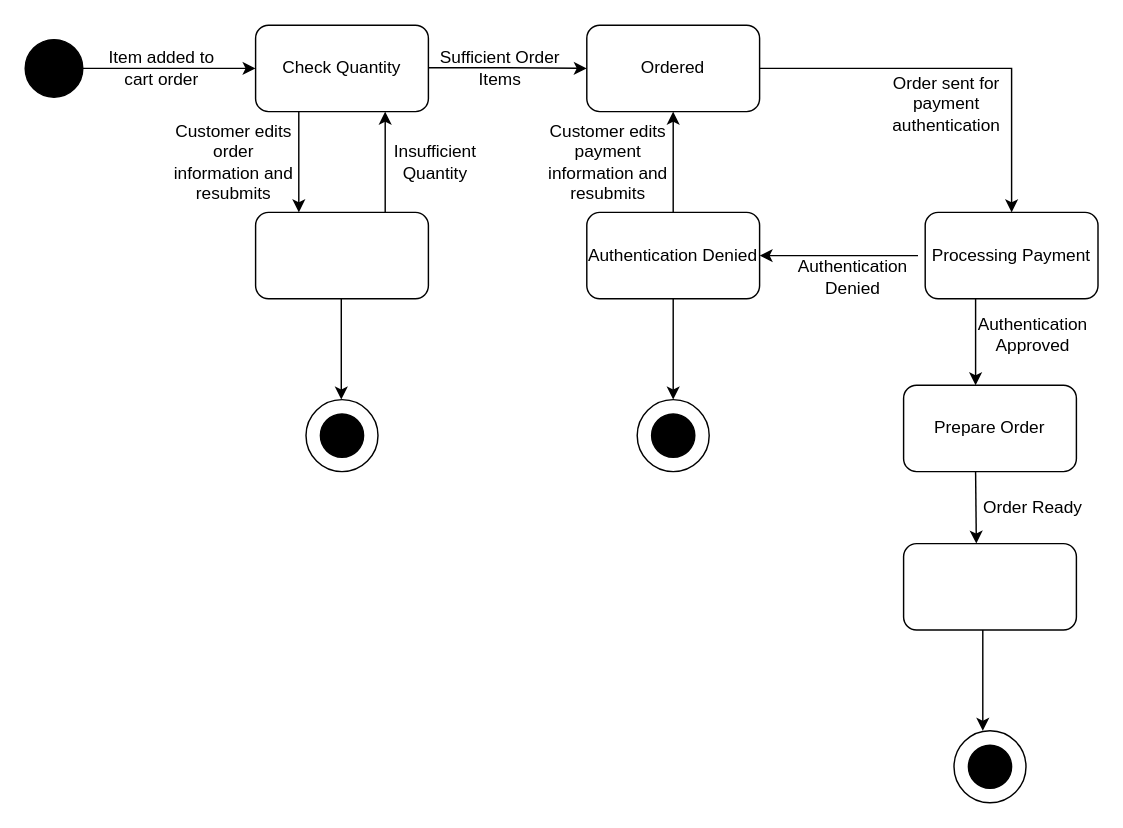
This 1123x828 diagram has some shape labels left out. Each missing label, with the centre of its shape:
"Pick-Up" belongs at point 989,586.
"Quantity Denied" belongs at point 341,255.
